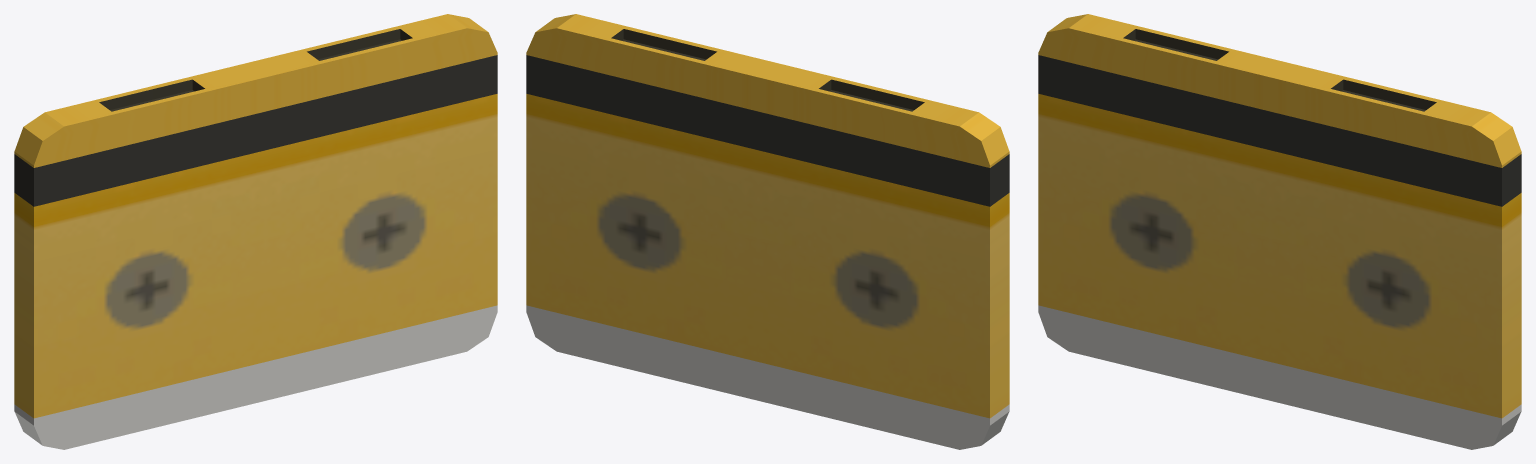
The model's file is MinePass.fbx.
3 views of the same model, side by side, from view 1: azimuth 30°, elevation 25°; view 2: azimuth 150°, elevation 25°; view 3: azimuth 330°, elevation 25° (orthographic).
Visible parts, largest first — view 1: Cube (3); view 2: Cube (3); view 3: Cube (3).
Boxes of the visible parts, x1=… form: Cube (3): x1=14, y1=14, x2=497, y2=449; Cube (3): x1=526, y1=14, x2=1009, y2=449; Cube (3): x1=1038, y1=14, x2=1521, y2=449.
Size of the model in its own units: 0.6931 by 0.4621 by 0.0503.
